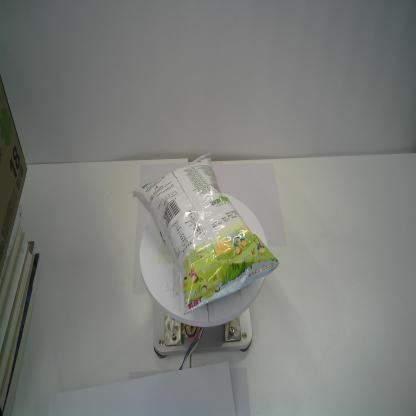Puffed Food: (132, 152, 280, 315)
